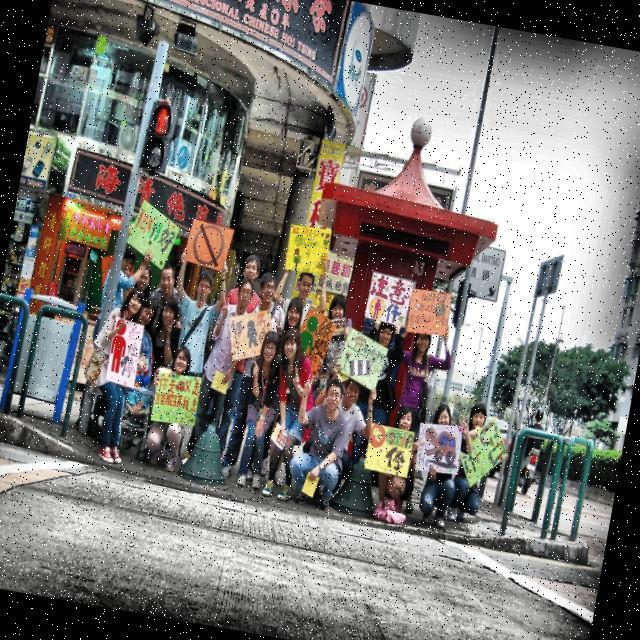red_light: (153, 105, 170, 136)
